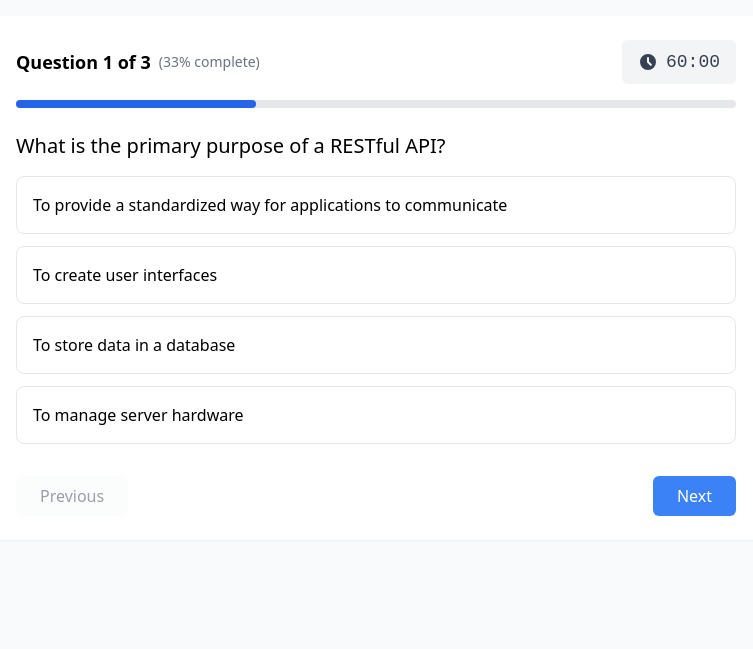
Question Explanations › shows explanations in the final review
Click the text "To provide a standardized way for applications to communicate". click: [376, 205]
box: top-left (16, 176), bottom-right (736, 234)
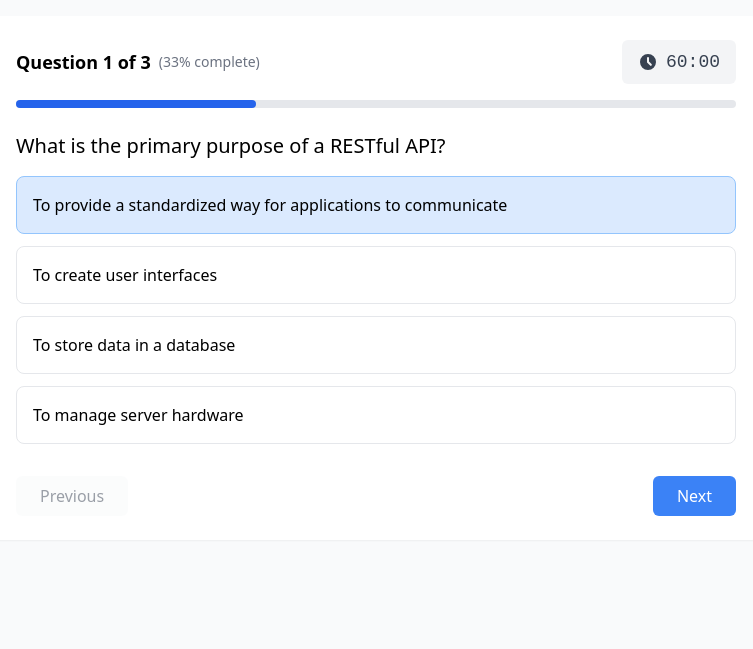
Click the button "Next". click: [694, 496]
box: top-left (653, 476), bottom-right (736, 516)
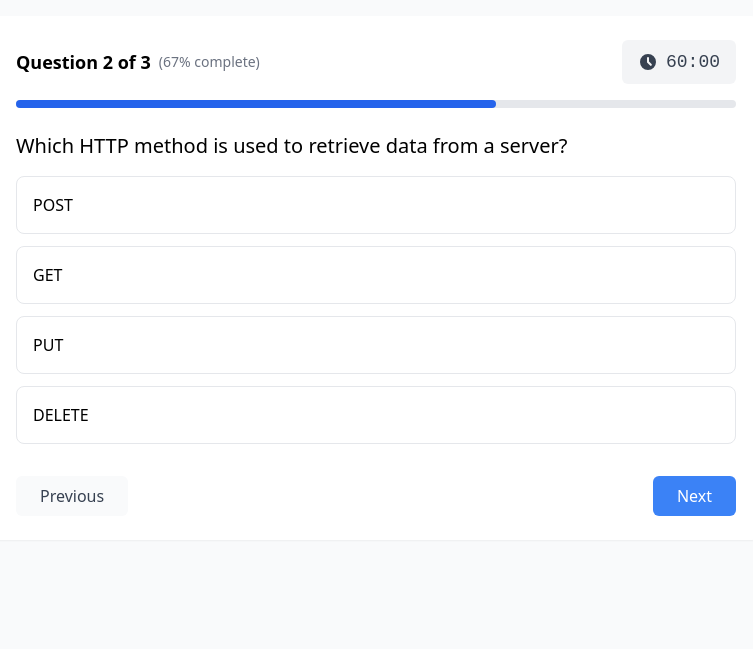
Click the text "POST". click: [376, 205]
box: top-left (16, 176), bottom-right (736, 234)
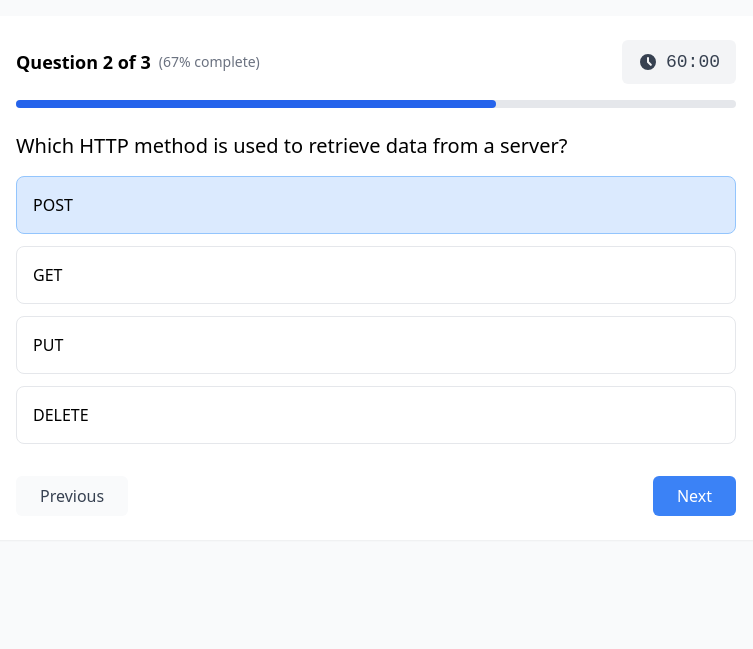
Click the button "Next". click: [694, 496]
box: top-left (653, 476), bottom-right (736, 516)
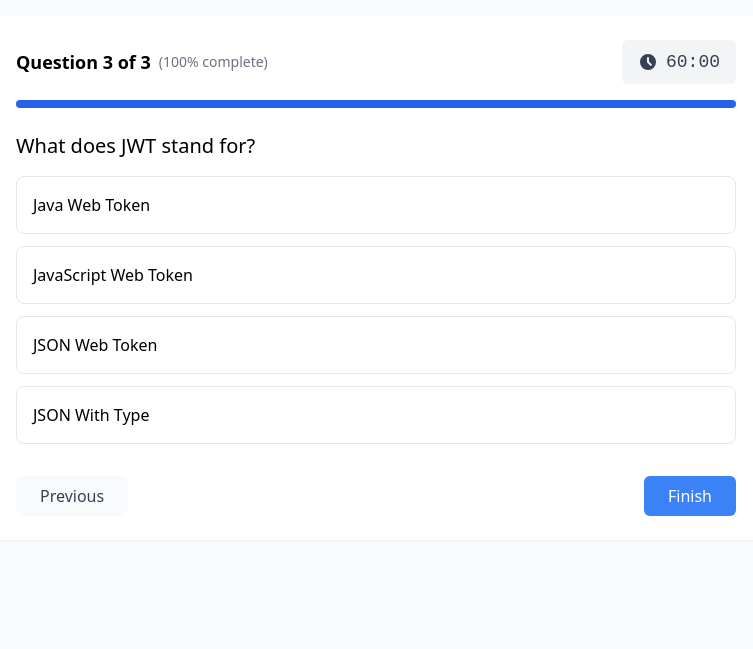
Click the text "Java Web Token". click: [376, 205]
box: top-left (16, 176), bottom-right (736, 234)
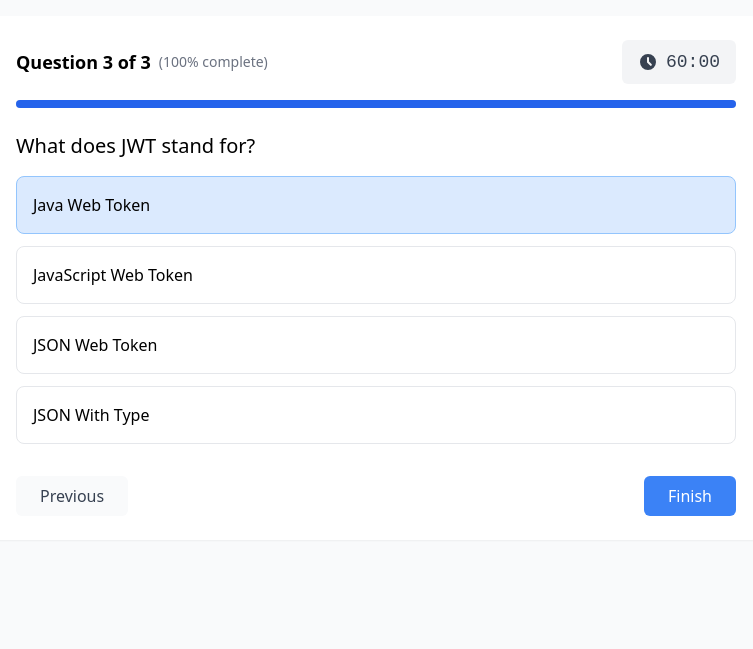
Click the button "Finish". click: [690, 496]
box: top-left (644, 476), bottom-right (736, 516)
(page scrolled)
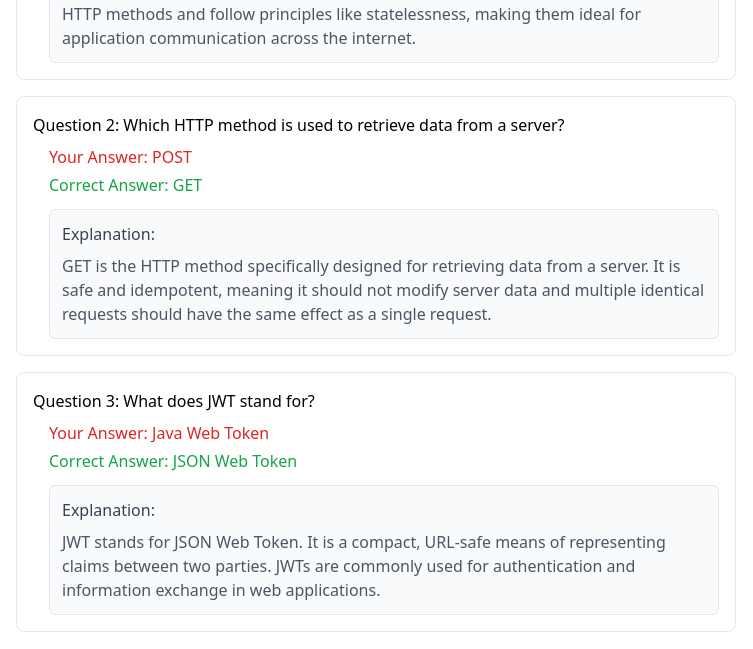
Check: the text "GET is the HTTP method specifically designed for retrieving data from a server. It is safe and idempotent, meaning it sh" is shown, box top-left (62, 255), bottom-right (704, 325)
Check: the text "JWT stands for JSON Web Token. It is a compact, URL-safe means of representing claims between two parties. JWTs are comm" is shown, box top-left (62, 531), bottom-right (666, 601)
